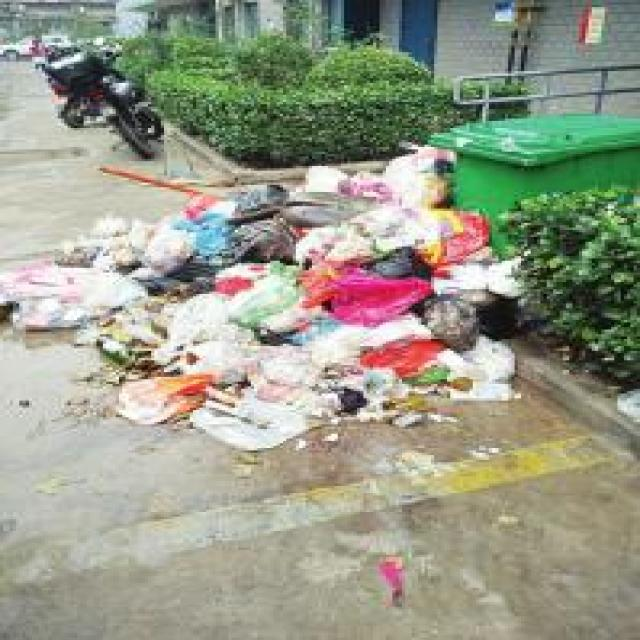garbage: (0, 137, 524, 450)
garbage_bin: (428, 109, 637, 249)
